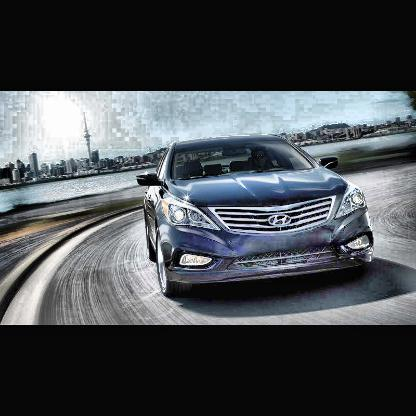Hyundai Azera Sedan 2012: (136, 133, 377, 303)
